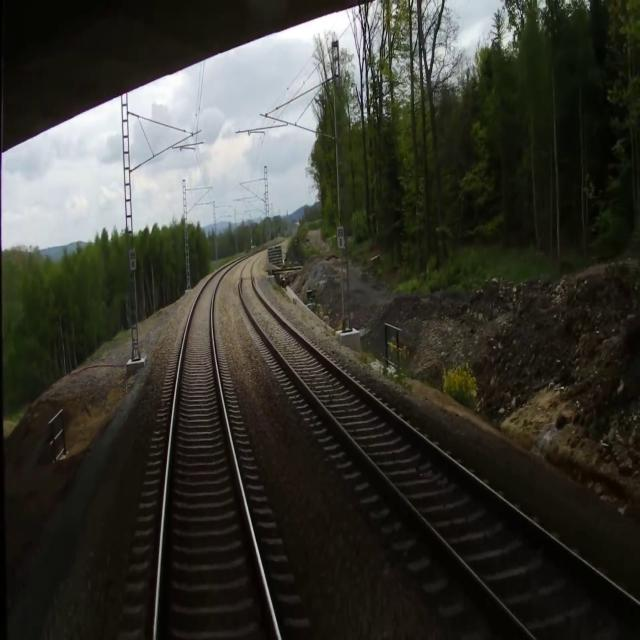rail-track: (241, 256, 639, 639), (156, 265, 277, 639)
